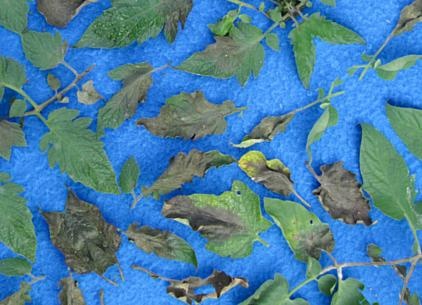Tomato leaf late blight: (150, 155, 287, 292), (25, 95, 147, 228), (68, 0, 211, 90), (173, 4, 288, 115), (138, 61, 252, 170), (133, 121, 243, 225), (75, 46, 182, 146), (117, 198, 214, 301), (254, 176, 349, 277), (171, 256, 338, 305), (267, 16, 338, 91)
